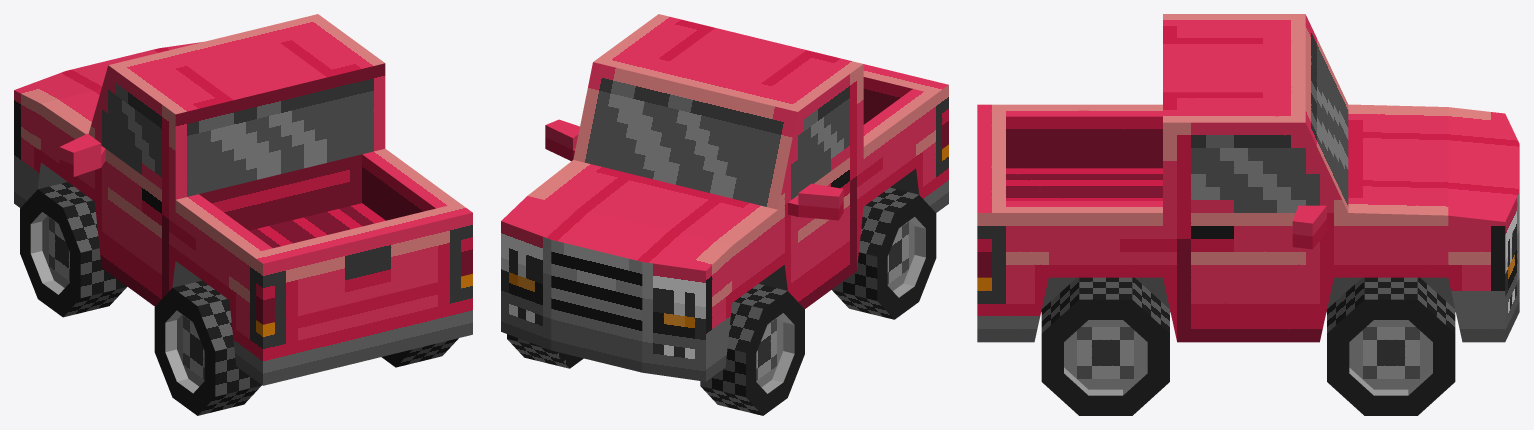
The picture shows the model from 3 angles, left to right: view 1: azimuth 30°, elevation 25°; view 2: azimuth 150°, elevation 25°; view 3: azimuth 270°, elevation 25°; orthographic projection. The views are drawn at different scales.
Parts seen in each view (by area): view 1: body, cylinder (×3), mirror_left; view 2: body, cylinder (×3), mirror_left, mirror_right; view 3: body, cylinder (×2), mirror_right.
Boxes of the visible parts, <box> form: body: <box>14,14,472,385</box>; cylinder (×3): <box>20,182,458,415</box>; mirror_left: <box>59,133,105,176</box>; body: <box>501,14,948,381</box>; cylinder (×3): <box>507,187,936,415</box>; mirror_left: <box>788,183,843,220</box>; mirror_right: <box>545,119,579,161</box>; body: <box>977,14,1519,342</box>; cylinder (×2): <box>1041,277,1455,415</box>; mirror_right: <box>1292,205,1326,249</box>.
Size of the model in its own units: 1.61 by 1.38 by 2.38.
Materials: 1 (1 with a texture image).
